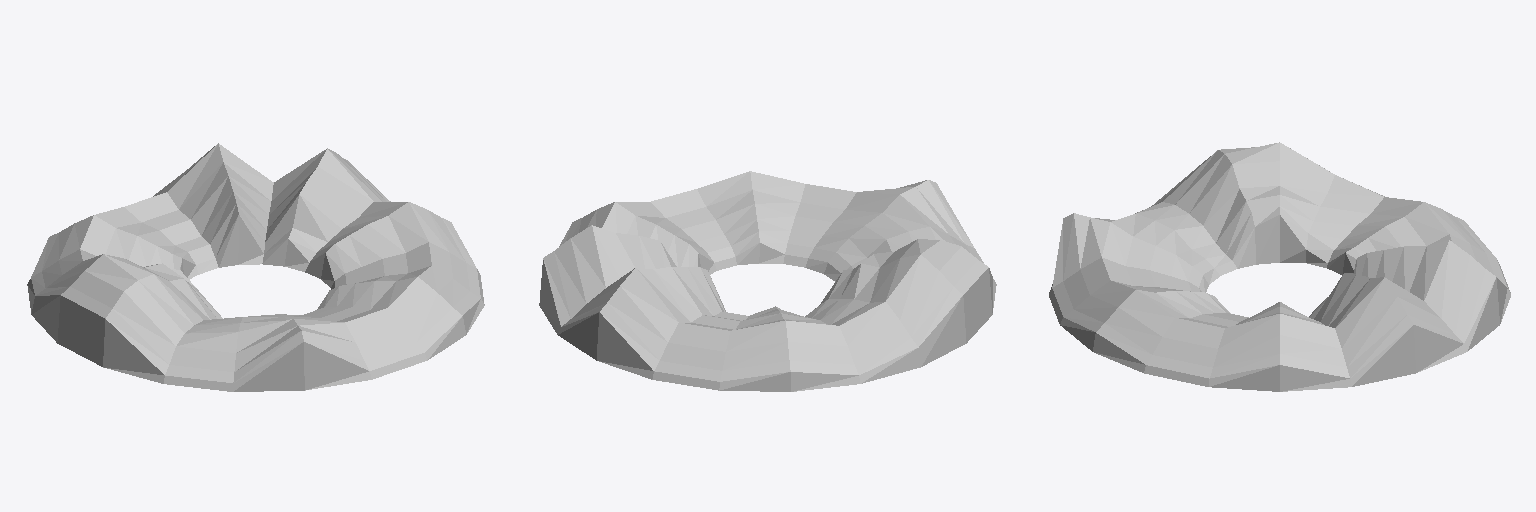
The model's file is Mountains.obj.
The picture shows the model from 3 angles: view 1: azimuth 30°, elevation 25°; view 2: azimuth 150°, elevation 25°; view 3: azimuth 270°, elevation 25°; orthographic projection.
Visible parts, largest first — view 1: Group2; view 2: Group2; view 3: Group2.
Boxes of the visible parts, x1,y1,x2,y2 form: Group2: [27, 143, 484, 391]; Group2: [539, 171, 996, 391]; Group2: [1049, 142, 1510, 391].
Size of the model in its own units: 56.73 by 10.68 by 57.29.